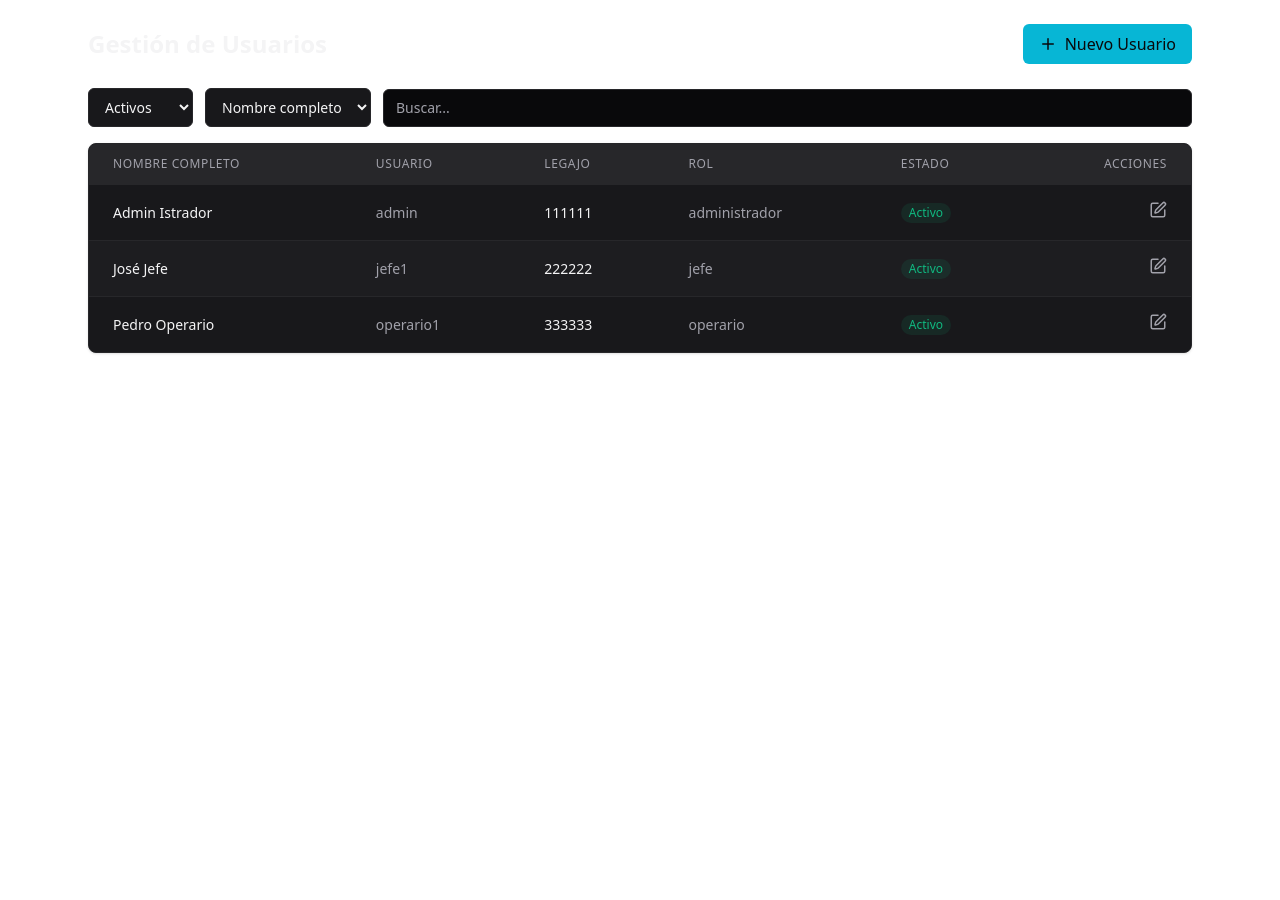
Test: UsuariosPage › "Activar Usuario" visible when editing inactive; NOT visible when editing active
Expected: the text "Admin Istrador" is shown, [89,184,352,240]
Open edit modal for an active user — Activar should NOT appear
Click the button titled "Editar" in the row of "Admin Istrador".
click(1158, 210)  # box [1149,201,1167,219]
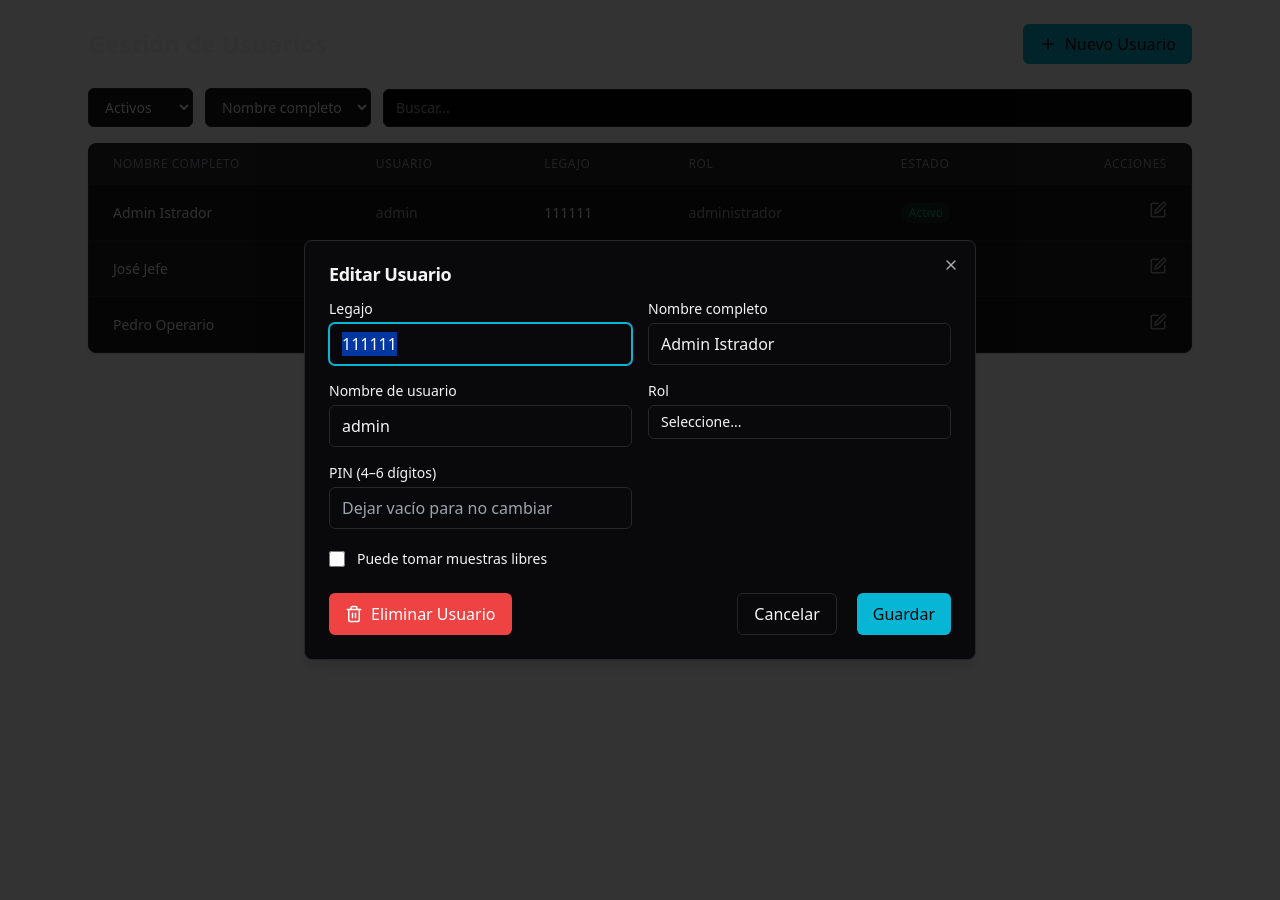
Expected: the button "Activar Usuario" is not shown
Expected: the heading "Editar Usuario" is shown, [329,262,451,286]
Close the modal
Click the button "Cancelar".
click(787, 614)  # box [737,593,837,635]
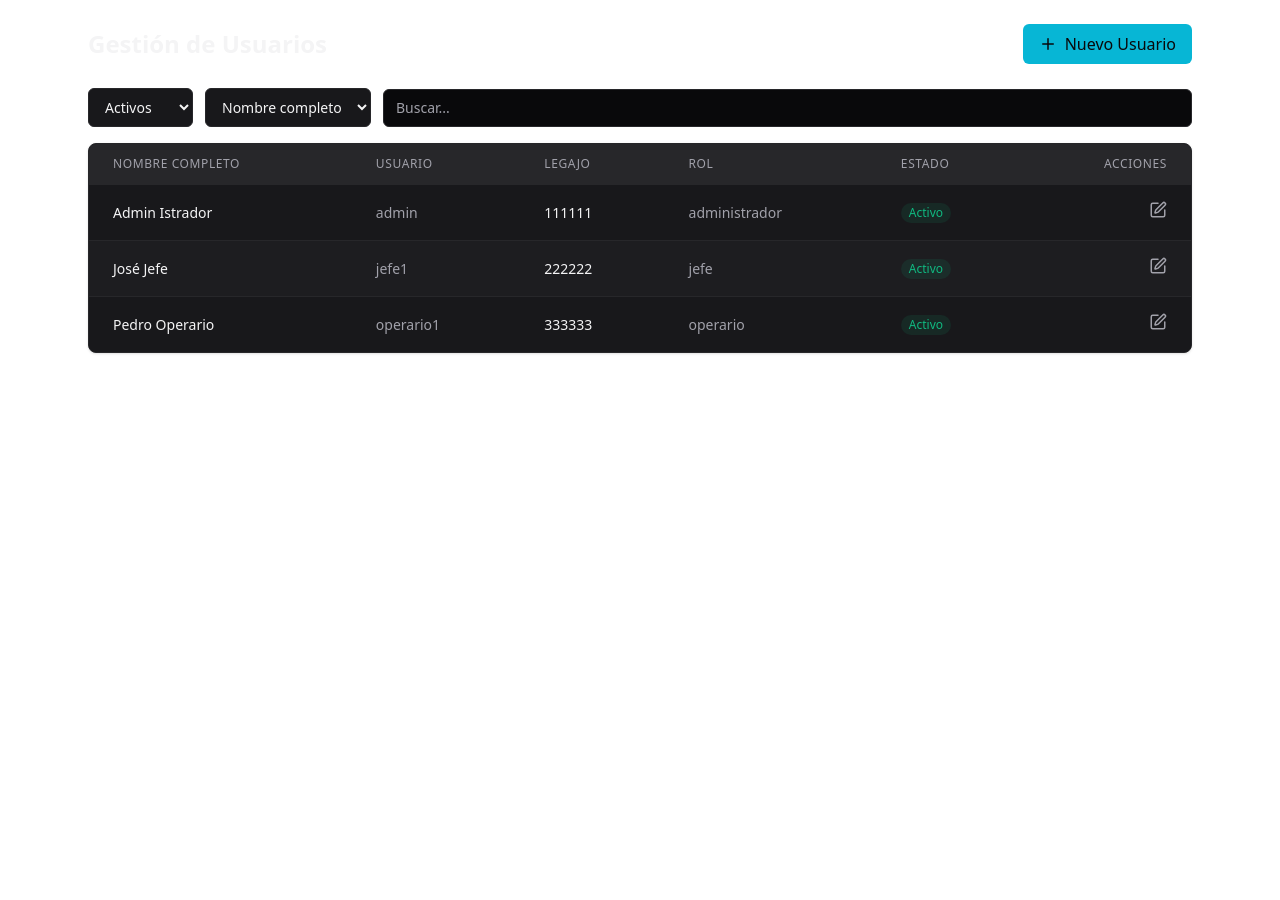
Switch to inactivos
Select "Inactivos" in the 1st dropdown at (140, 108), box [88,88,193,127]
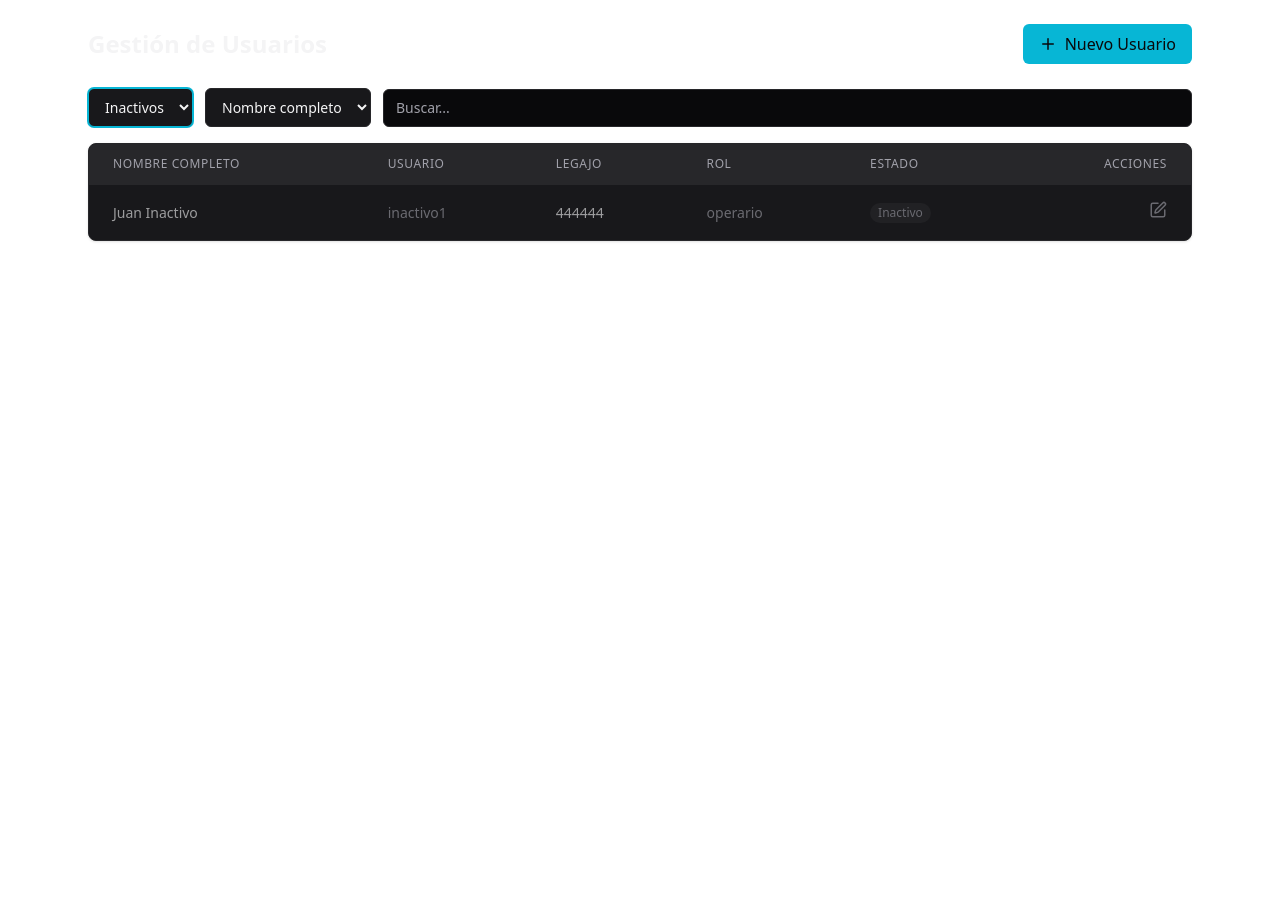
Expected: the text "Juan Inactivo" is shown, [89,184,364,240]
Open edit modal for an inactive user — Activar SHOULD appear
Click the button titled "Editar".
click(1158, 210)  # box [1149,201,1167,219]
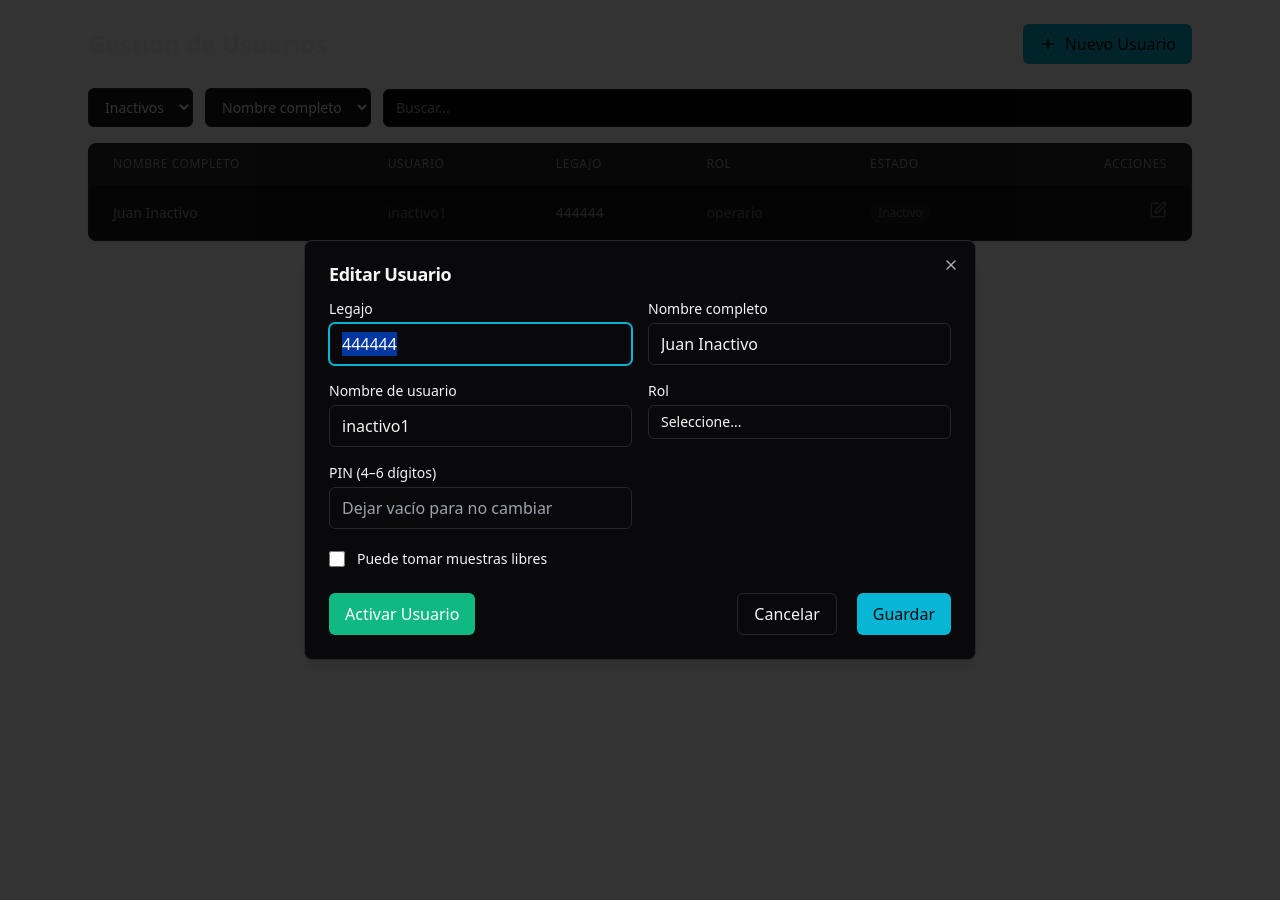
Expected: the heading "Editar Usuario" is shown, [329,262,451,286]
Expected: the button "Activar Usuario" is shown, [329,593,475,635]
